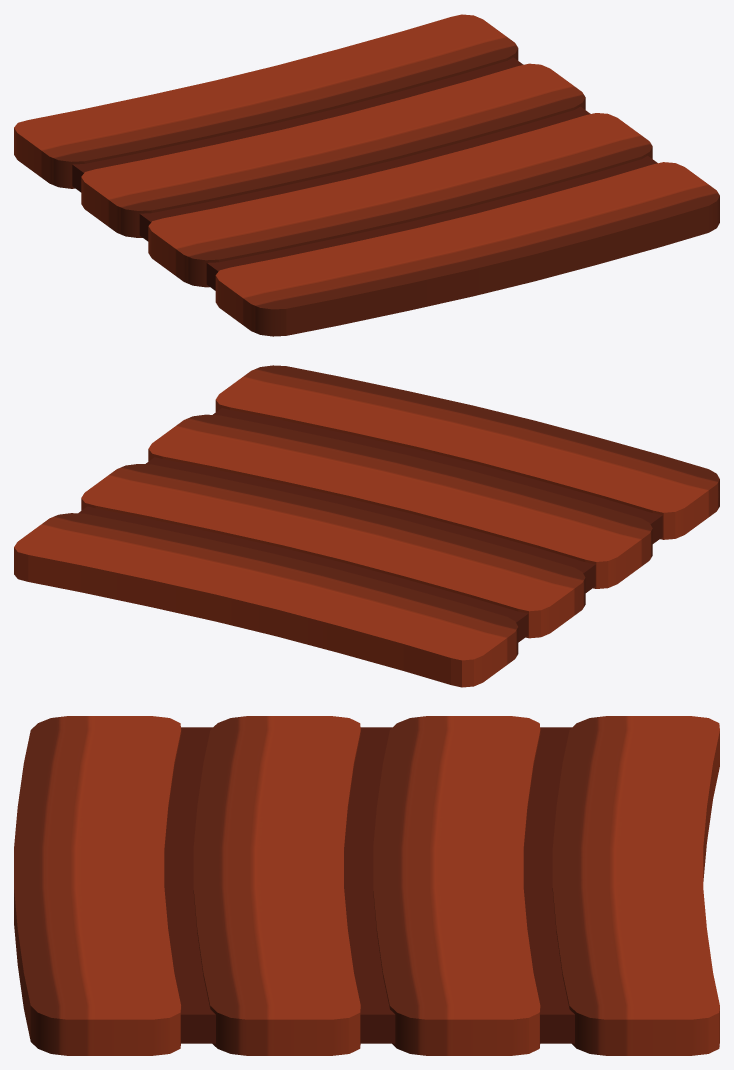
The model's file is Ribs_Slice.glb.
3 views of the same model, one above another, from view 1: azimuth 30°, elevation 25°; view 2: azimuth 150°, elevation 25°; view 3: azimuth 270°, elevation 25° (orthographic). The views are drawn at different scales.
Parts seen in each view (by area): view 1: Ribs_Slice; view 2: Ribs_Slice; view 3: Ribs_Slice.
Part boxes in pixels (x1,y1,x2,y2): Ribs_Slice: (14,14,719,336); Ribs_Slice: (14,365,719,687); Ribs_Slice: (14,716,719,1055).
Size of the model in its own units: 18 by 1 by 17.69.
1 material, 1 textured.
